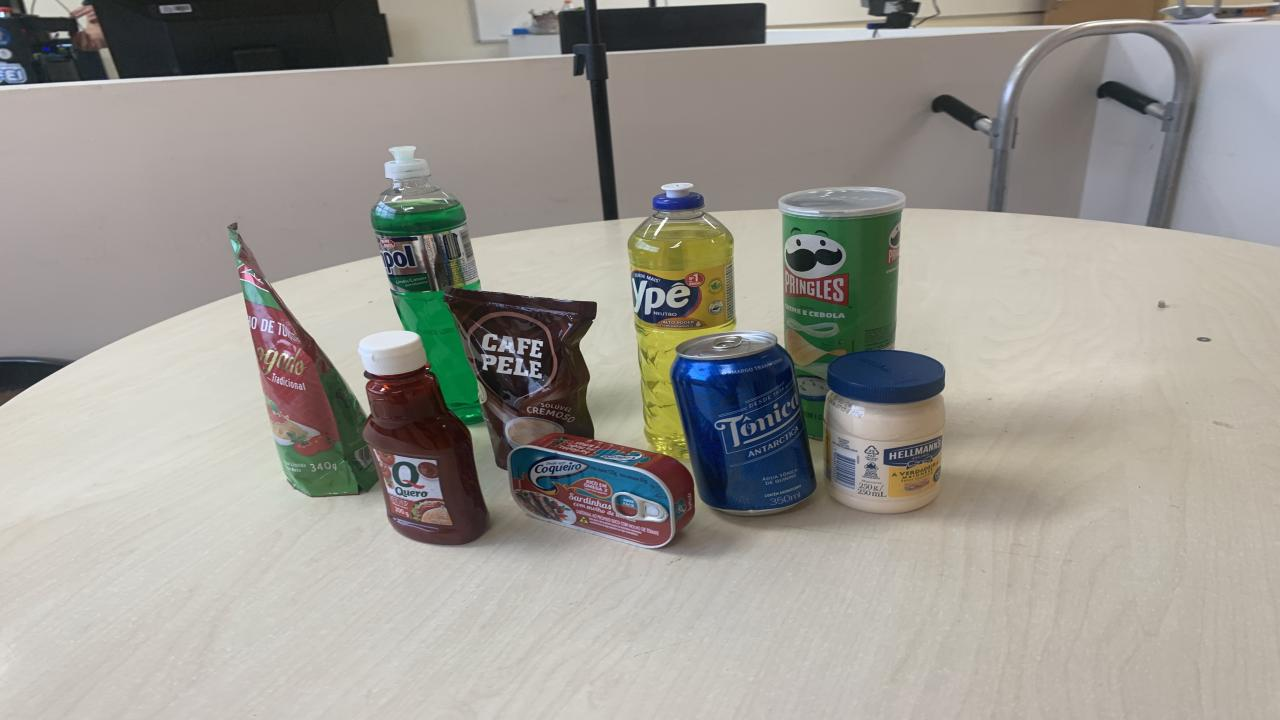Coffee-Pantry_Items: (445, 289, 598, 469)
Detergent-Cleanup_Items: (370, 146, 482, 424), (628, 182, 735, 459)
Ketchup-Pantry_Items: (360, 332, 490, 544)
Mayonnaise-Pantry_Items: (825, 351, 945, 514)
Pringles-Snacks: (780, 188, 905, 439)
Tomato_Sauce-Pantry_Items: (228, 225, 378, 497)
Tonic-Drinks: (670, 332, 815, 516)
Tuna_Can-Pantry_Items: (508, 433, 695, 548)
